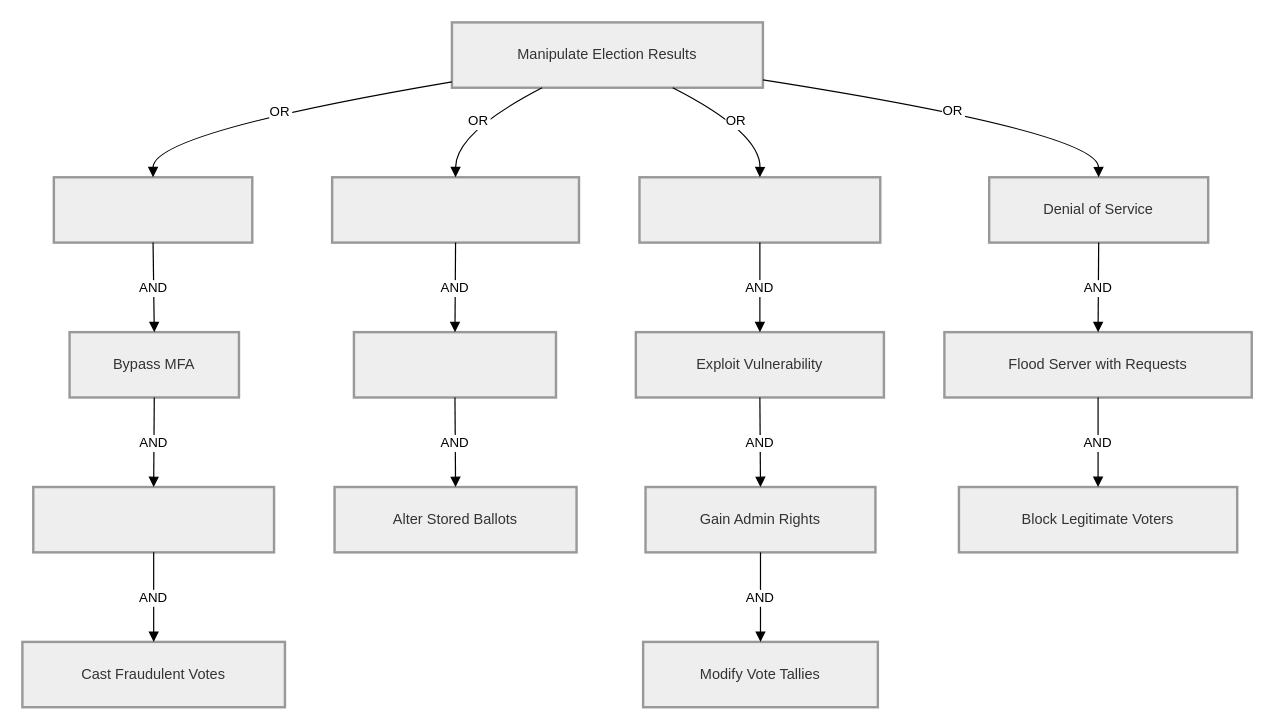
Image size: 1273x728. Some labels were removed from this diagram. The shapes that lost their labels are listed below. From the top down, each one's box as (x1, y1, x2, y2) in pixels, then its label:
(52, 175, 253, 243): Voter Spoofing
(330, 175, 580, 243): Database Tampering
(638, 175, 881, 243): Privilege Escalation
(352, 330, 557, 398): Gain DB Access
(31, 485, 275, 553): Register Fake Voter
